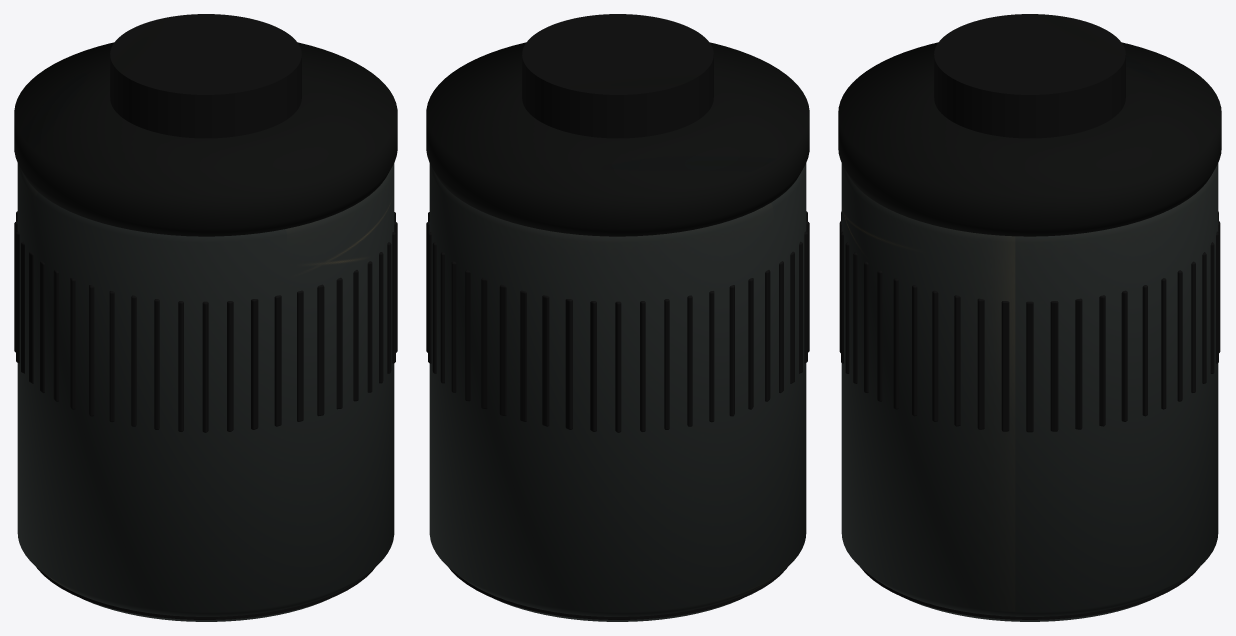
Rendered from C03_DevelopingTank.fbx.
3 views of the same model, side by side, from view 1: azimuth 30°, elevation 25°; view 2: azimuth 150°, elevation 25°; view 3: azimuth 270°, elevation 25° (orthographic).
Visible parts, largest first — view 1: Body_Mesh, MainLid_Mesh, LiquidCap_Mesh; view 2: Body_Mesh, MainLid_Mesh, LiquidCap_Mesh; view 3: Body_Mesh, MainLid_Mesh, LiquidCap_Mesh.
Boxes of the visible parts, bbox=[...] form: Body_Mesh: bbox=[14, 163, 397, 621]; MainLid_Mesh: bbox=[14, 42, 397, 236]; LiquidCap_Mesh: bbox=[110, 14, 301, 138]; Body_Mesh: bbox=[426, 163, 809, 621]; MainLid_Mesh: bbox=[426, 42, 809, 236]; LiquidCap_Mesh: bbox=[522, 14, 713, 138]; Body_Mesh: bbox=[839, 163, 1220, 621]; MainLid_Mesh: bbox=[838, 42, 1221, 236]; LiquidCap_Mesh: bbox=[934, 14, 1125, 138].
Bounding box in the file's own units: 0.112 × 0.16 × 0.112.
